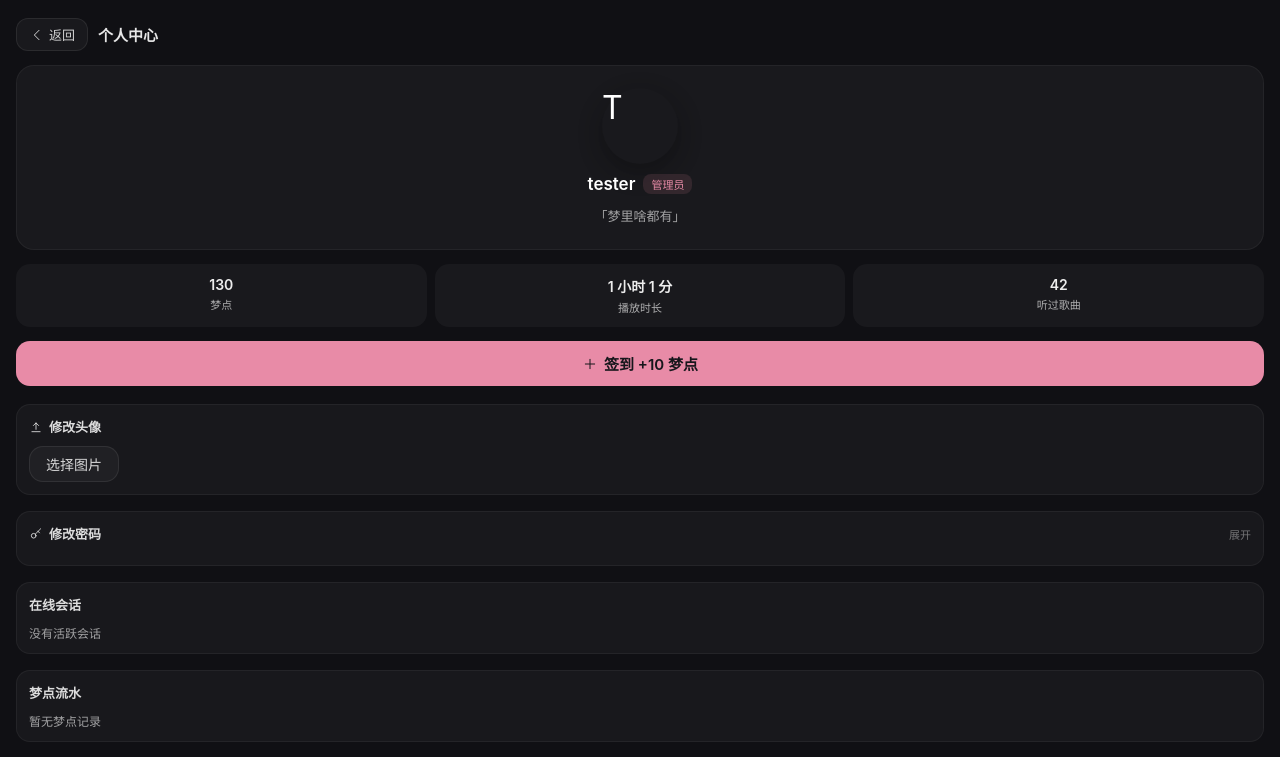
UserProfilePanel — D5 › checkin adds points and disables button
This screenshot has width=1280, height=757.
Click the button "签到 +10 梦点": (640, 364) [16,341,1264,386]
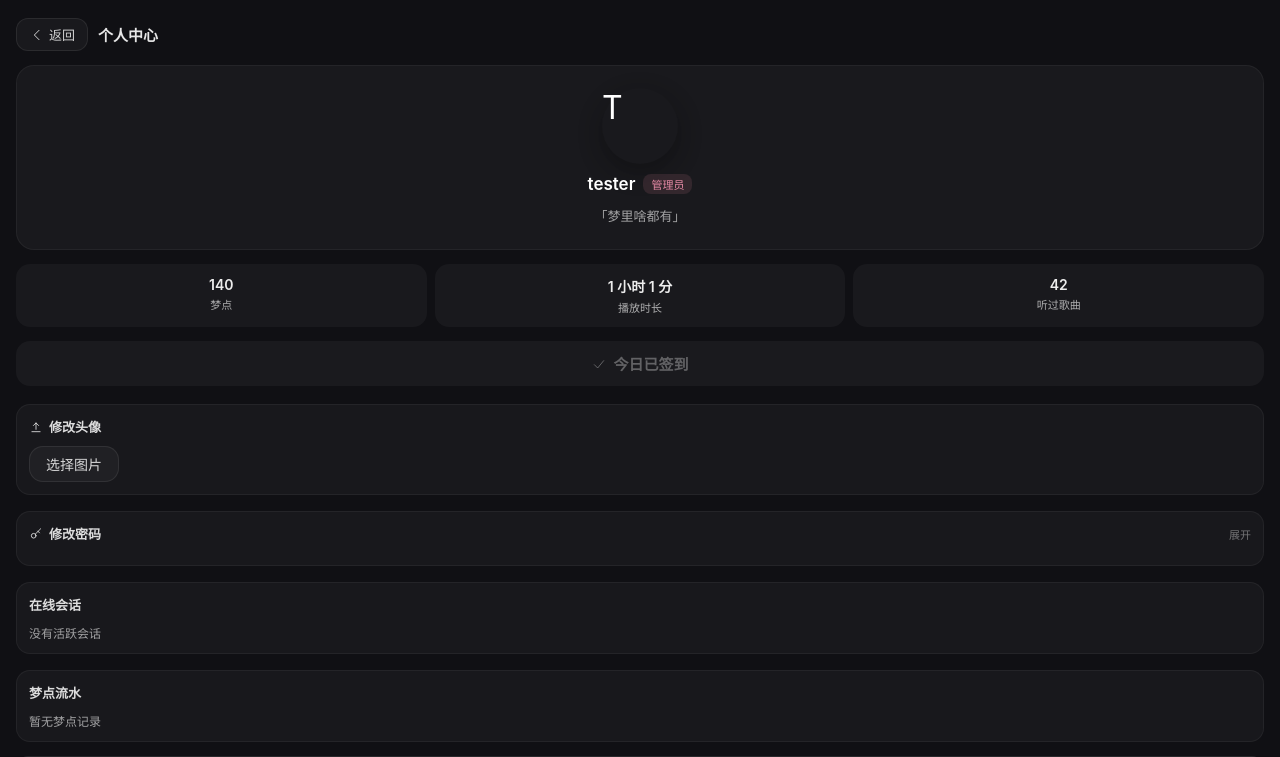
Expected: the button "今日已签到" is disabled, [16,341,1264,386]
